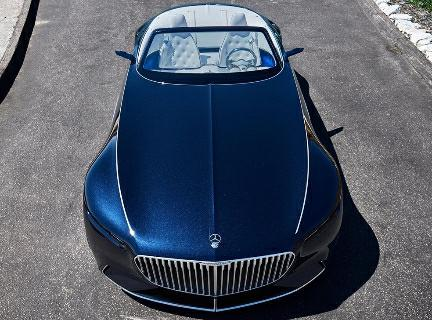奔驰-VisionMercedes-Maybach6: (75, 4, 356, 319)
